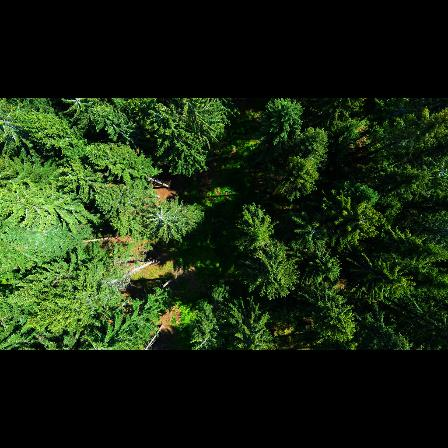Sick: (139, 195, 184, 240)
